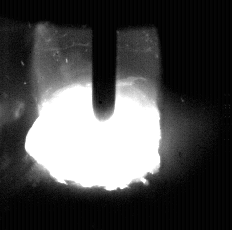arame: (93, 0, 116, 121)
poca: (25, 0, 161, 230)
